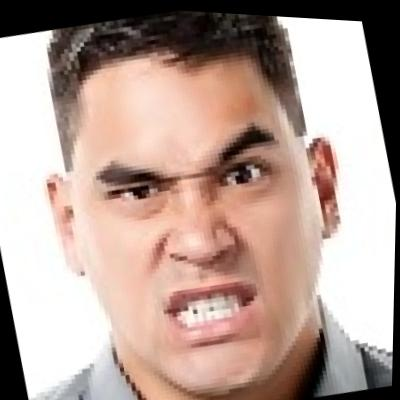angry: (40, 6, 358, 400)
